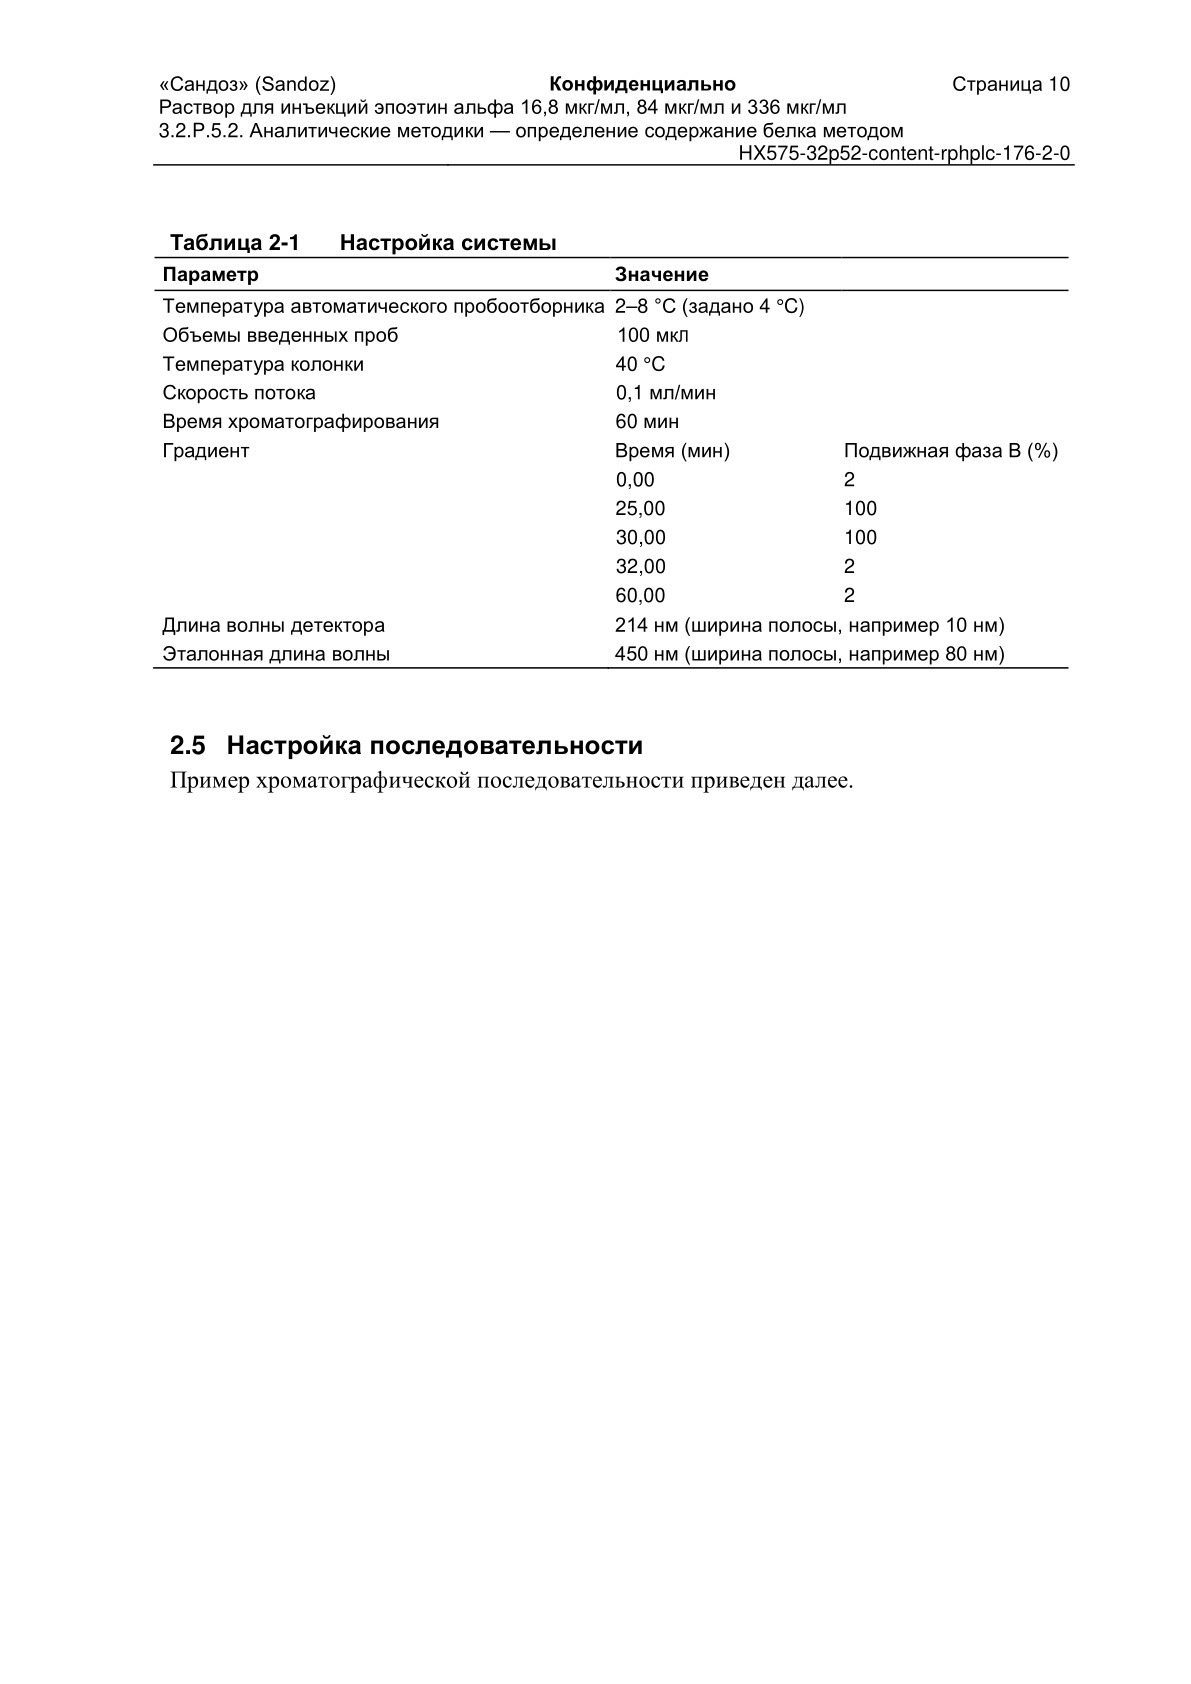partial_lined: (153, 256, 1070, 671)
